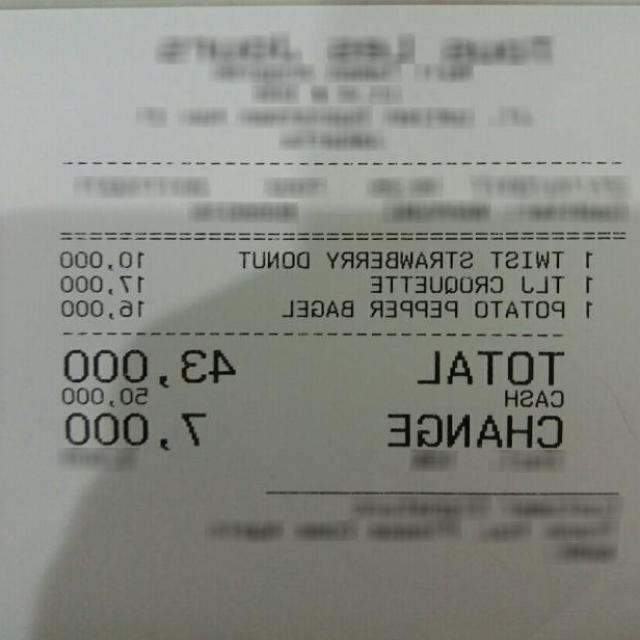kertas: (1, 5, 640, 640)
